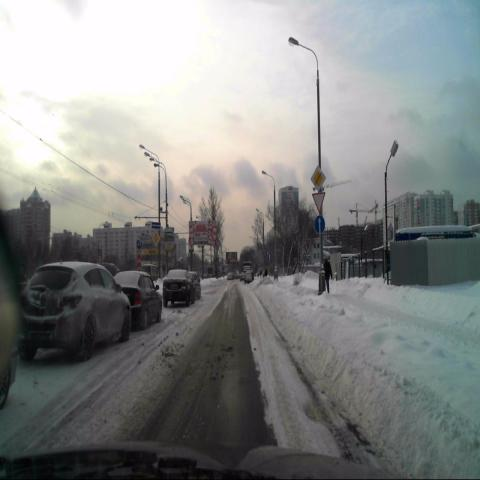2_2: (310, 164, 326, 191)
